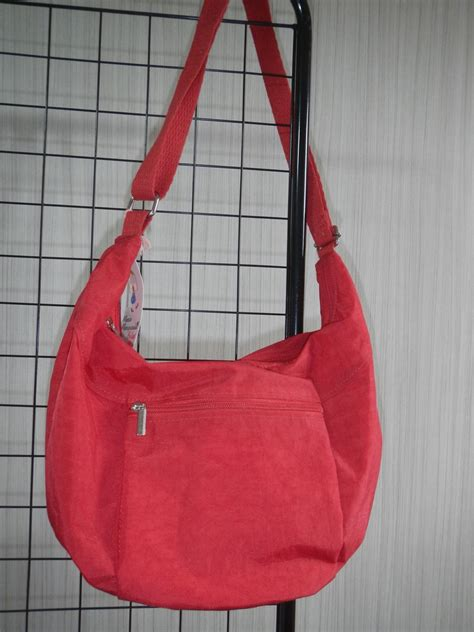nylon: (46, 4, 382, 613)
